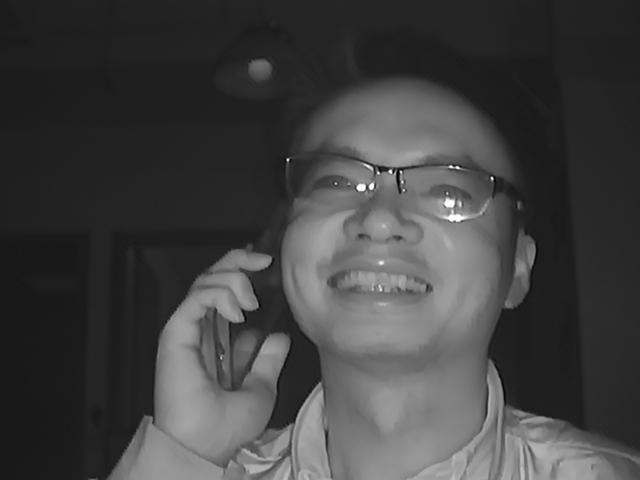hand: (147, 245, 296, 443)
